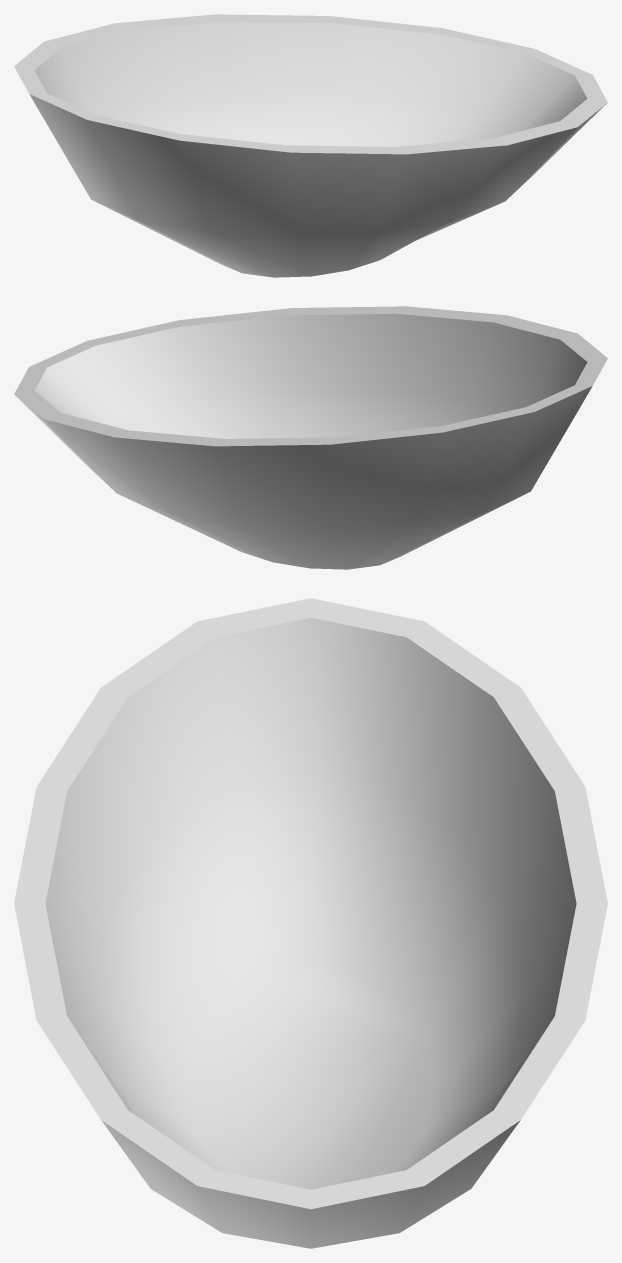
File: Fruit_Plate.fbx
3 views of the same model, one above another, from view 1: azimuth 30°, elevation 25°; view 2: azimuth 150°, elevation 25°; view 3: azimuth 270°, elevation 25° (orthographic). The views are drawn at different scales.
Parts seen in each view (by area): view 1: Fruit_Plate; view 2: Fruit_Plate; view 3: Fruit_Plate.
Boxes of the visible parts, x1,y1,x2,y2 form: Fruit_Plate: (14,14,607,277); Fruit_Plate: (14,306,607,569); Fruit_Plate: (14,598,607,1248).
Size of the model in its own units: 51.42 by 18.98 by 30.23.
